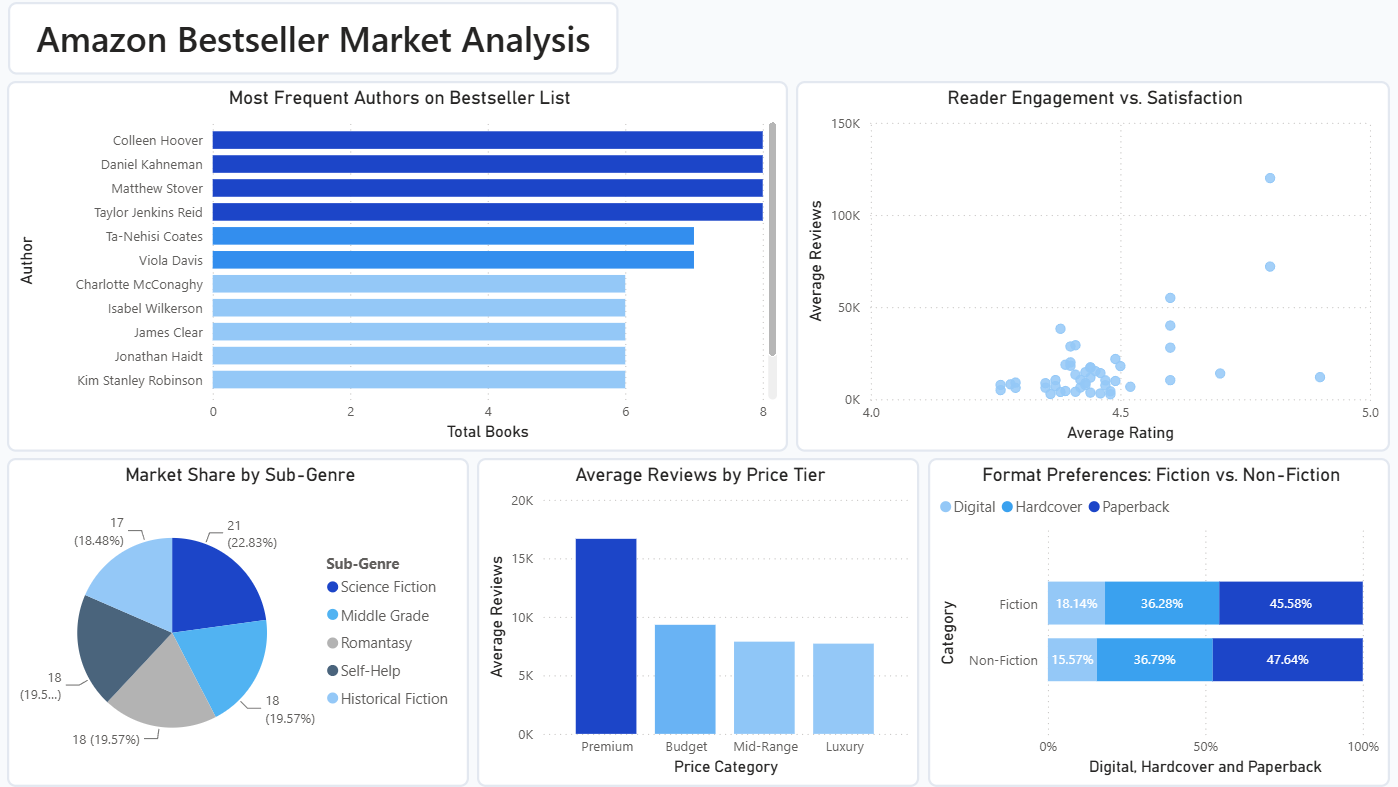

The dashboard page shown, as its layout file describes it:
{"tool":"powerbi","page":{"name":"Page 1","canvas":[1280,720],"ordinal":0},"visuals":[{"type":"pieChart","title":"Market Share by Sub-Genre","fields":{"Category":["query1_results.sub_genre"],"Y":["Sum(query1_results.total_count)"]},"box":[9.6,418.3,420.2,298.8],"z":0},{"type":"clusteredBarChart","title":"Most Frequent Authors on Bestseller List","fields":{"Category":["query2_results.author"],"Y":["Sum(query2_results.count_books)"]},"box":[9.7,75.5,710,336.5],"z":1000},{"type":"scatterChart","title":"Reader Engagement vs. Satisfaction","fields":{"Category":["query3_results.sub_genre"],"X":["Sum(query3_results.avg_rating_sub)"],"Y":["Sum(query3_results.avg_reviews_sub)"]},"box":[727.7,75.1,539.8,337.3],"z":2000},{"type":"clusteredColumnChart","title":"Average Reviews by Price Tier","fields":{"Category":["query4_results.price_category"],"Y":["Sum(query4_results.avg_reviews)"]},"box":[437.6,418.3,401.9,298.8],"z":3000},{"type":"hundredPercentStackedBarChart","title":"Format Preferences: Fiction vs. Non-Fiction","fields":{"Category":["query5_results.category"],"Y":["Sum(query5_results.digital_count)","Sum(query5_results.hardcover_count)","Sum(query5_results.paperback_count)"]},"box":[847.2,418.3,420.2,298.8],"z":4000},{"type":"textbox","box":[10.6,3.9,555.2,65.5],"z":5000}]}

Visuals, with their boxes in screenshot pixels (x1, y1, x2, y2), scaled from the page's 1280x720 canvas onto the 1398x787 screenshot:
"Market Share by Sub-Genre" pieChart: BBox(10, 457, 469, 784)
"Most Frequent Authors on Bestseller List" clusteredBarChart: BBox(11, 83, 786, 450)
"Reader Engagement vs. Satisfaction" scatterChart: BBox(795, 82, 1384, 451)
"Average Reviews by Price Tier" clusteredColumnChart: BBox(478, 457, 917, 784)
"Format Preferences: Fiction vs. Non-Fiction" hundredPercentStackedBarChart: BBox(925, 457, 1384, 784)
textbox: BBox(12, 4, 618, 76)
